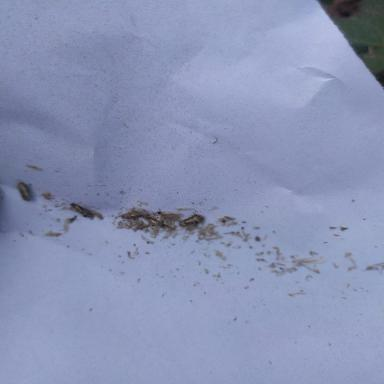pbw: (178, 211, 203, 226), (70, 202, 92, 217), (18, 182, 32, 201), (130, 207, 151, 217), (124, 211, 142, 220)
